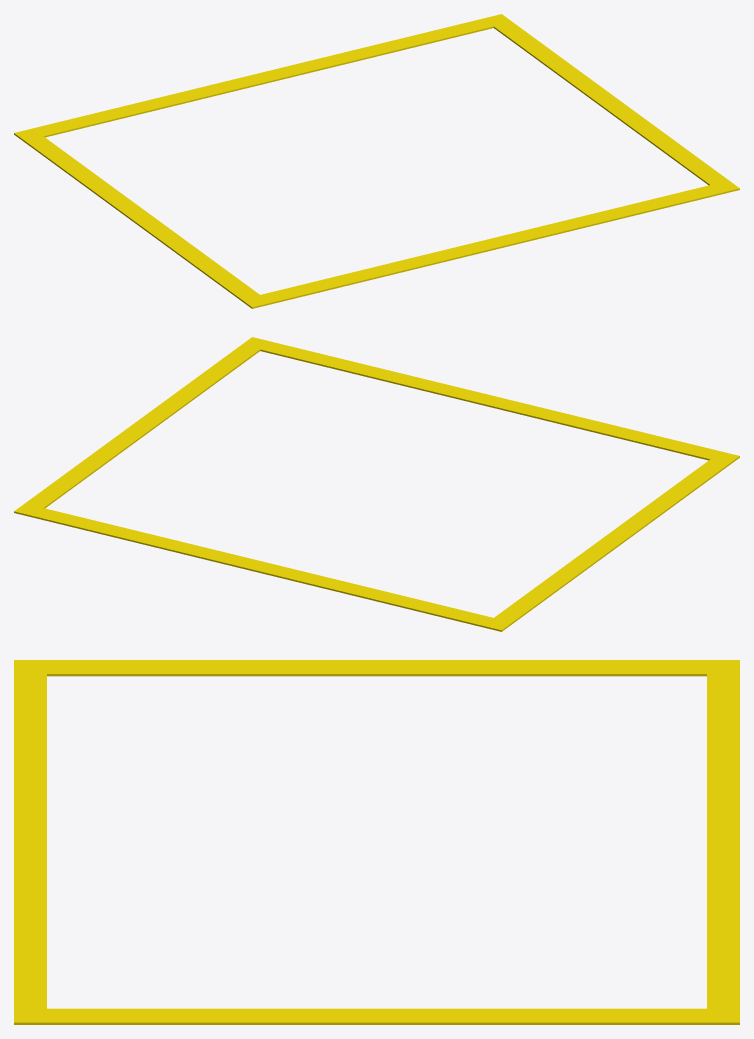
The model's file is espera_chao.glb.
The picture shows the model from 3 angles, top to bottom: view 1: azimuth 30°, elevation 25°; view 2: azimuth 150°, elevation 25°; view 3: azimuth 270°, elevation 25°; orthographic projection. The views are drawn at different scales.
Parts seen in each view (by area): view 1: faixa_frente, faixa_fundo, faixa_d, faixa_e; view 2: faixa_fundo, faixa_frente, faixa_d, faixa_e; view 3: faixa_frente, faixa_fundo, faixa_d, faixa_e.
Boxes of the visible parts, <box> form: faixa_frente: <box>241,180,739,308</box>; faixa_fundo: <box>14,14,511,141</box>; faixa_d: <box>24,136,259,300</box>; faixa_e: <box>493,22,728,185</box>; faixa_fundo: <box>14,503,512,631</box>; faixa_frente: <box>242,337,739,464</box>; faixa_d: <box>494,459,729,623</box>; faixa_e: <box>25,345,260,508</box>; faixa_frente: <box>14,660,46,1024</box>; faixa_fundo: <box>707,660,739,1024</box>; faixa_d: <box>47,660,706,676</box>; faixa_e: <box>47,1008,706,1024</box>.
Size of the model in its own units: 1.3 by 0.004 by 1.1.
